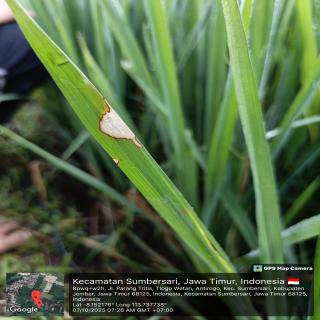Blast: (98, 99, 144, 148), (112, 158, 124, 165)
